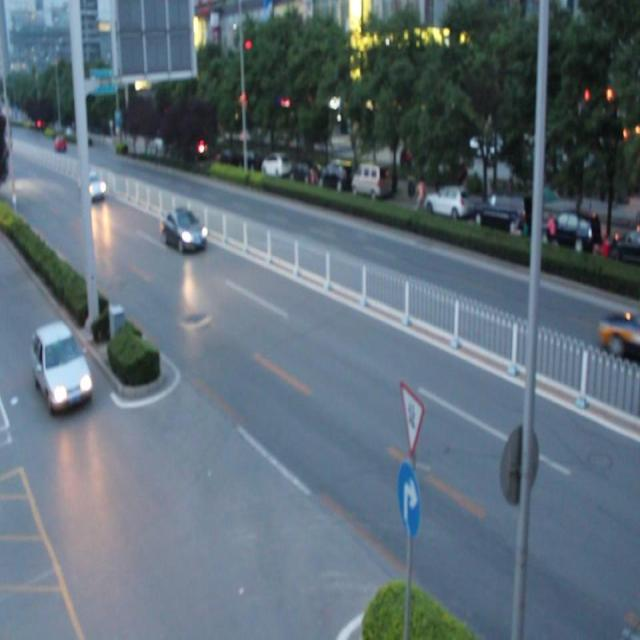car: (30, 322, 94, 412), (162, 208, 206, 252), (82, 172, 106, 201)
